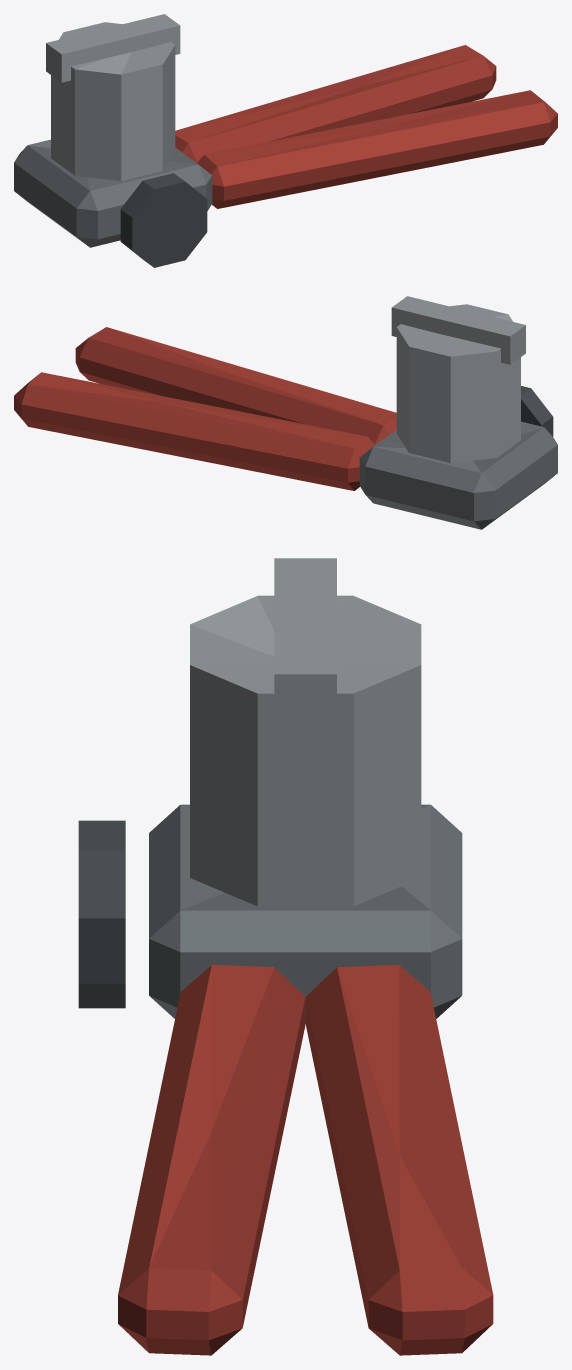
File: tool_can_opener_ruchnoy_idle.glb
3 renders of one model, top to bottom at view 1: azimuth 30°, elevation 25°; view 2: azimuth 150°, elevation 25°; view 3: azimuth 270°, elevation 25°, orthographic. The views are drawn at different scales.
Visible parts, largest first — view 1: tool_can_opener_ruchnoy_idle; view 2: tool_can_opener_ruchnoy_idle; view 3: tool_can_opener_ruchnoy_idle.
Boxes of the visible parts, left/top/right/bottom form: tool_can_opener_ruchnoy_idle: left=14, top=14, right=557, bottom=267; tool_can_opener_ruchnoy_idle: left=14, top=296, right=557, bottom=529; tool_can_opener_ruchnoy_idle: left=78, top=558, right=493, bottom=1355.
Size of the model in its own units: 0.1402 by 0.0531 by 0.053.
1 material, 1 textured.
